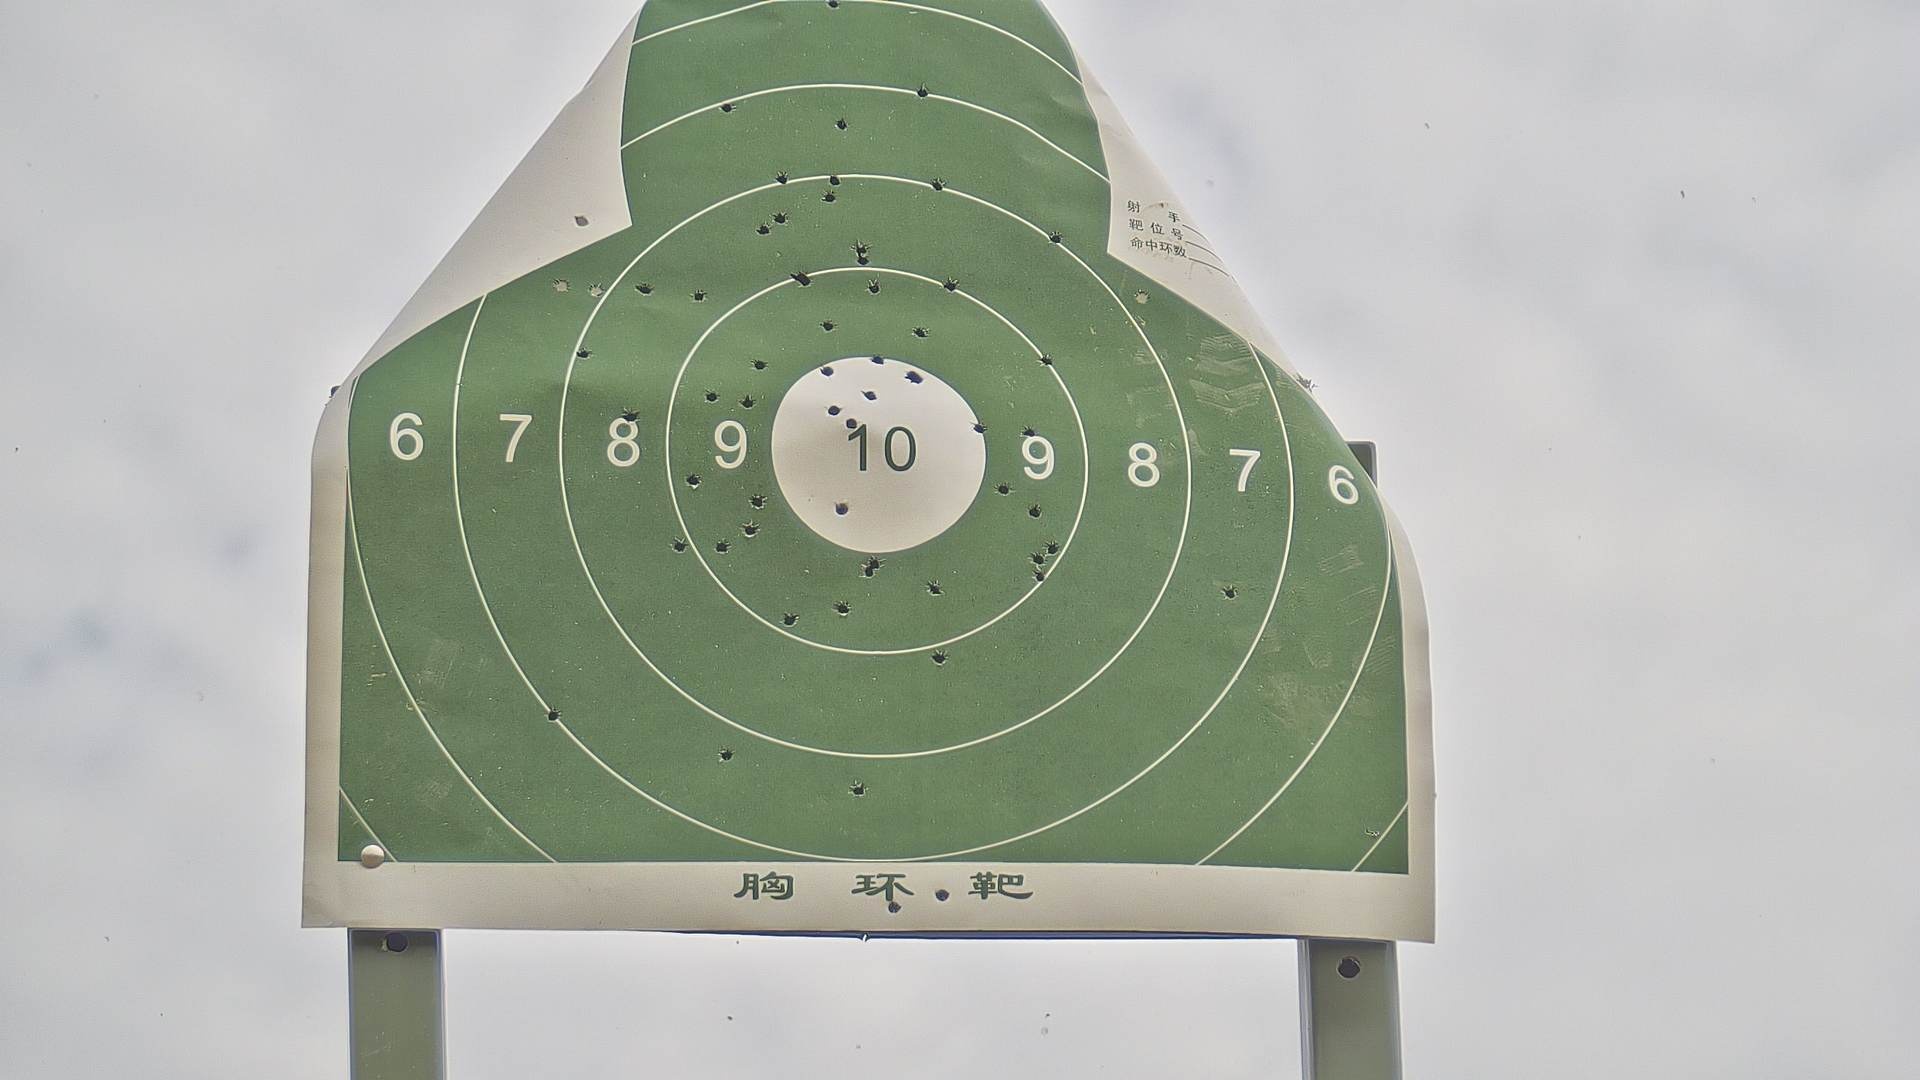hole: (567, 208, 593, 229), (1218, 587, 1244, 608), (740, 521, 762, 543), (684, 471, 705, 493), (924, 582, 945, 603), (829, 497, 851, 518), (910, 326, 934, 344), (588, 284, 609, 303), (622, 406, 644, 426), (1029, 553, 1048, 574), (833, 603, 855, 622), (781, 613, 802, 633), (931, 651, 951, 673), (822, 397, 841, 418), (667, 539, 691, 556), (1131, 291, 1153, 310), (770, 212, 793, 229), (851, 243, 874, 258), (1044, 543, 1063, 563), (858, 564, 878, 583), (554, 277, 571, 298), (711, 541, 733, 556), (832, 119, 851, 137), (914, 84, 931, 104), (818, 320, 837, 338), (750, 357, 770, 375), (545, 709, 564, 727), (851, 785, 870, 802), (819, 193, 837, 210), (943, 280, 961, 297), (703, 392, 723, 407), (905, 373, 924, 389), (717, 103, 738, 117), (930, 179, 947, 196), (855, 255, 872, 272), (717, 750, 735, 767), (1047, 233, 1065, 249), (636, 284, 654, 299), (1026, 506, 1044, 522), (1038, 357, 1058, 372), (997, 483, 1011, 502), (827, 175, 844, 191), (866, 282, 885, 297), (576, 348, 595, 363), (690, 291, 709, 305), (868, 356, 887, 369), (798, 276, 815, 290), (752, 495, 769, 509), (934, 889, 951, 903), (823, 1, 843, 13), (774, 175, 791, 189), (1019, 430, 1036, 443), (757, 225, 773, 239), (887, 899, 903, 913), (845, 419, 860, 433), (973, 425, 989, 436), (742, 394, 754, 409), (820, 368, 836, 378), (865, 392, 878, 404)
kernel: (870, 448, 877, 452)
target: (342, 1, 1410, 884)
ten: (764, 353, 988, 553)
